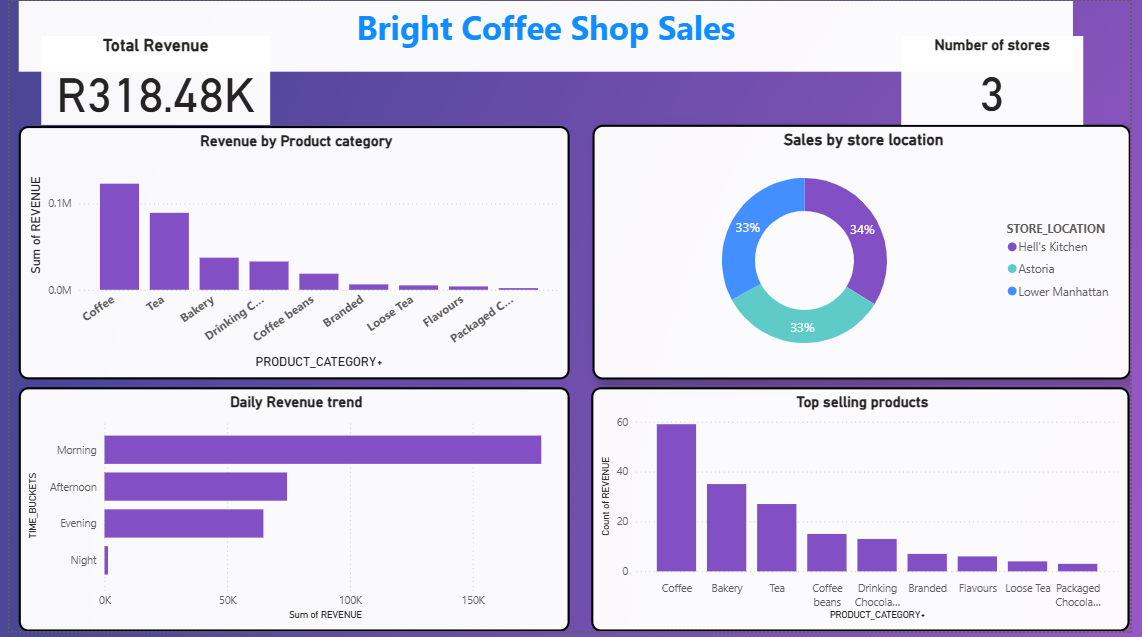

The dashboard page shown, as its layout file describes it:
{"tool":"powerbi","page":{"name":"Page 1","canvas":[1280,720],"ordinal":0},"visuals":[{"type":"textbox","box":[9.6,0,1204.8,81],"z":0},{"type":"card","title":"Total Revenue","fields":{"Values":["Sum(Coffee shop.REVENUE)"]},"box":[35.5,40.4,261.7,101.5],"z":1000},{"type":"donutChart","title":"Sales by store location","fields":{"Category":["Coffee shop.STORE_LOCATION"],"Y":["Sum(Coffee shop.REVENUE)"]},"box":[665.2,141.8,615.1,291],"z":2000},{"type":"card","title":"Number of stores","fields":{"Values":["Count(Coffee shop.STORE_LOCATION)"]},"box":[1018.6,40.4,207.9,101.5],"z":3000},{"type":"clusteredColumnChart","title":"Revenue by Product category","fields":{"Category":["Coffee shop.PRODUCT_CATEGORY+"],"Y":["Sum(Coffee shop.REVENUE)"]},"box":[9.8,143.1,629.8,289.8],"z":4000},{"type":"barChart","title":"Daily Revenue trend","fields":{"Category":["Coffee shop.TIME_BUCKETS"],"Y":["Sum(Coffee shop.REVENUE)"]},"box":[9.8,441.4,629.8,278.8],"z":4001},{"type":"clusteredColumnChart","title":"Top selling products","fields":{"Category":["Coffee shop.PRODUCT_CATEGORY+"],"Y":["Count(Coffee shop.REVENUE)"]},"box":[665,441,615,279],"z":4002}]}

Visuals, with their boxes in screenshot pixels (x1, y1, x2, y2), scaled from the page's 1280x720 canvas onto the 1142x637 screenshot:
textbox: x1=9 y1=0 x2=1083 y2=72
"Total Revenue" card: x1=32 y1=36 x2=265 y2=126
"Sales by store location" donutChart: x1=593 y1=125 x2=1141 y2=383
"Number of stores" card: x1=909 y1=36 x2=1094 y2=126
"Revenue by Product category" clusteredColumnChart: x1=9 y1=127 x2=571 y2=383
"Daily Revenue trend" barChart: x1=9 y1=391 x2=571 y2=636
"Top selling products" clusteredColumnChart: x1=593 y1=390 x2=1141 y2=636
